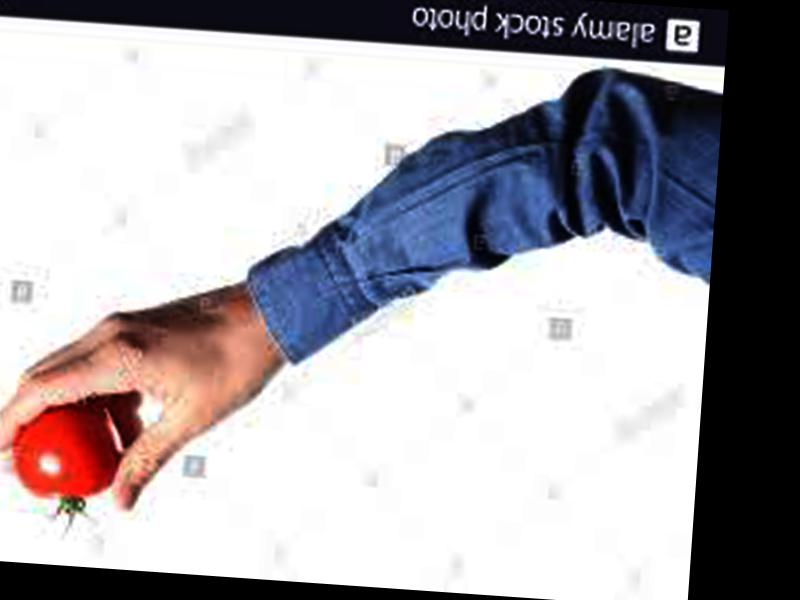Tomato: (9, 405, 118, 499)
